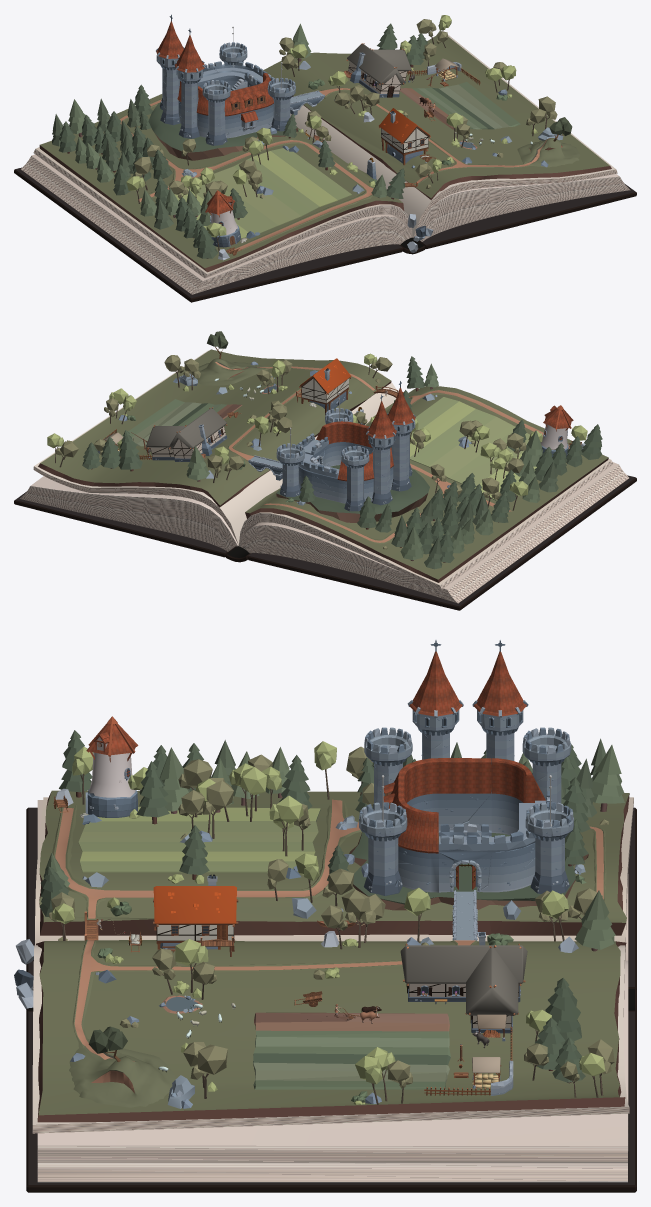
The model's file is xixi.fbx.
3 renders of one model, top to bottom at view 1: azimuth 30°, elevation 25°; view 2: azimuth 150°, elevation 25°; view 3: azimuth 270°, elevation 25°, orthographic. The views are drawn at different scales.
Parts seen in each view (by area): view 1: Scene; view 2: Scene; view 3: Scene.
Part boxes in pixels (left/top/right/bottom): Scene: left=14, top=14, right=636, bottom=302; Scene: left=14, top=331, right=636, bottom=610; Scene: left=14, top=640, right=636, bottom=1192.
Size of the model in its own units: 10307 by 3656 by 7232.
